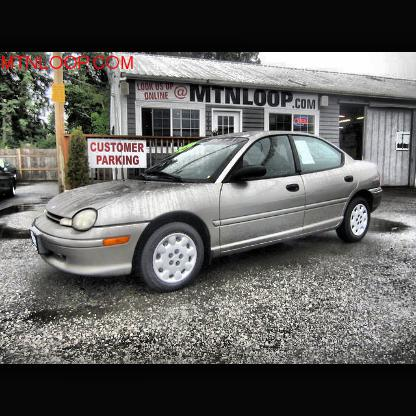Plymouth Neon Coupe 1999: (33, 131, 384, 294)
